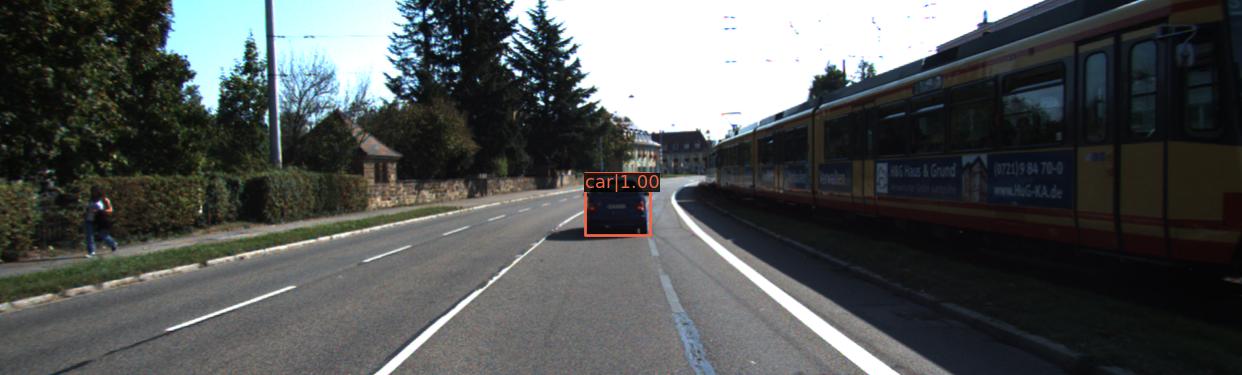car: (586, 176, 650, 238)
person: (84, 183, 120, 259)
